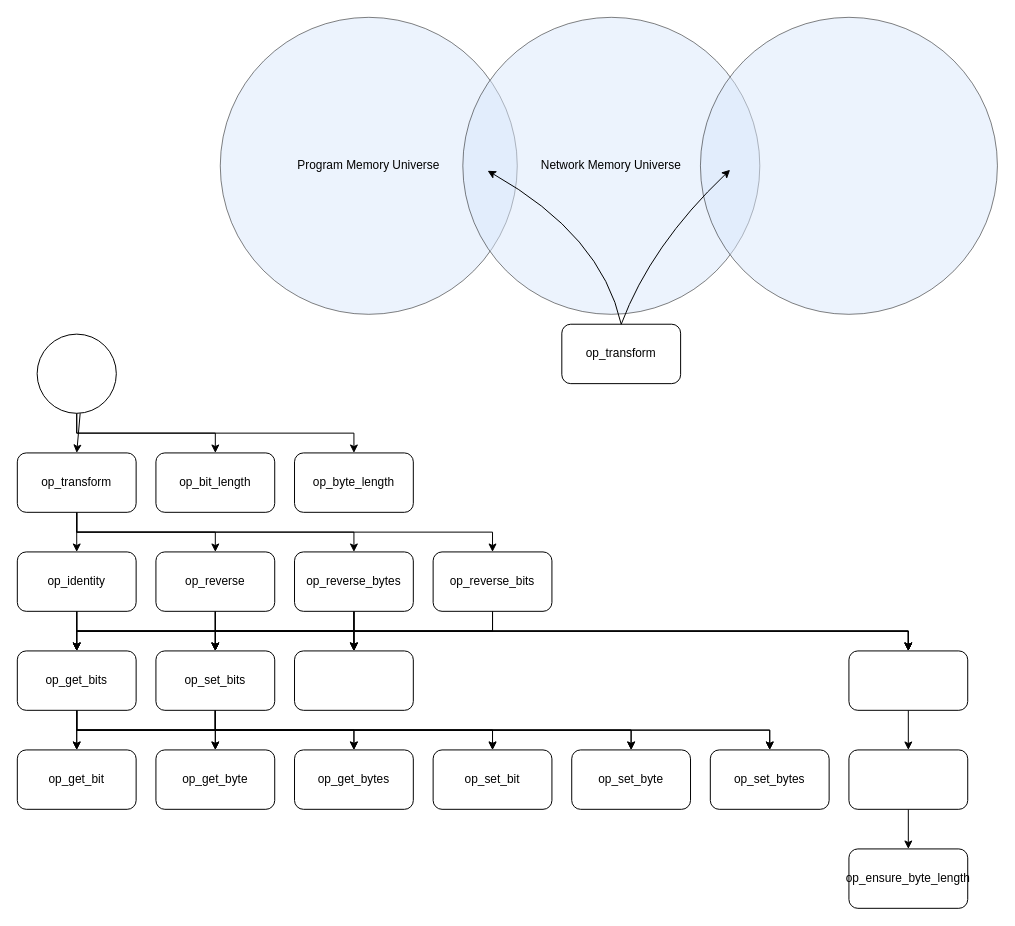
Image size: 1015x926. Some labels were removed from this diagram. The box of each missing label's shape, as (x1, y1, x2, y2) in pixels:
op_concatenate: (294, 650, 413, 710)
op_ensure_bit_length: (848, 749, 968, 809)
op_extend: (848, 650, 968, 710)
Other Program Memory Universe: (699, 16, 997, 314)
